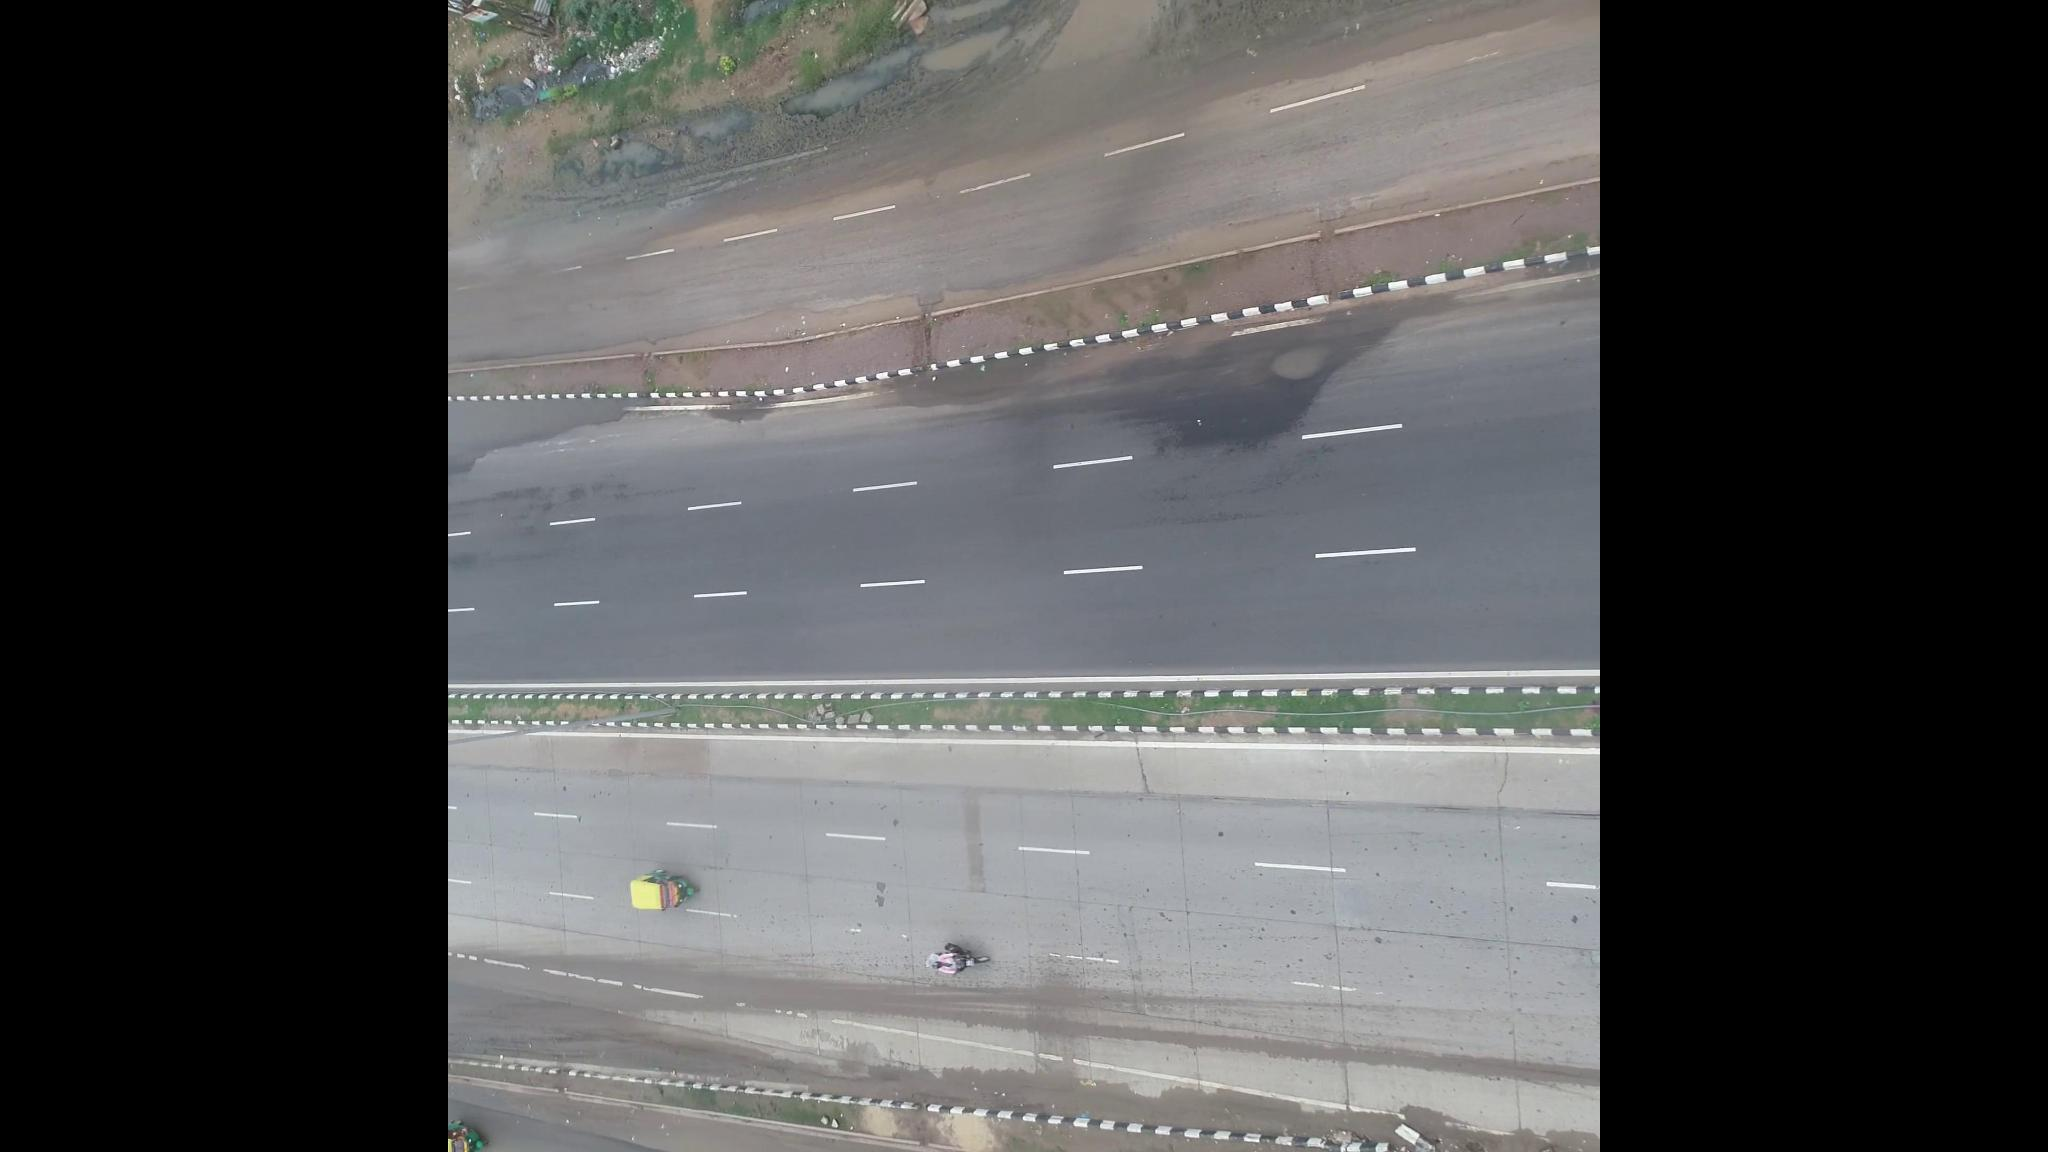Waterlogging: (1242, 338, 1352, 397)
